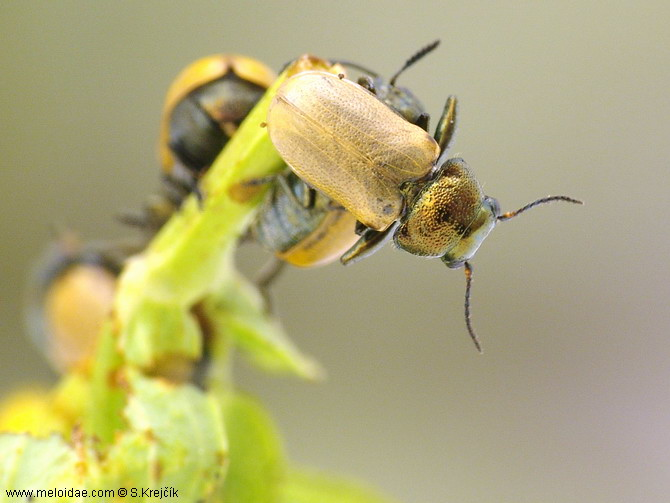Labidostomis_longimana: (265, 67, 586, 363)
